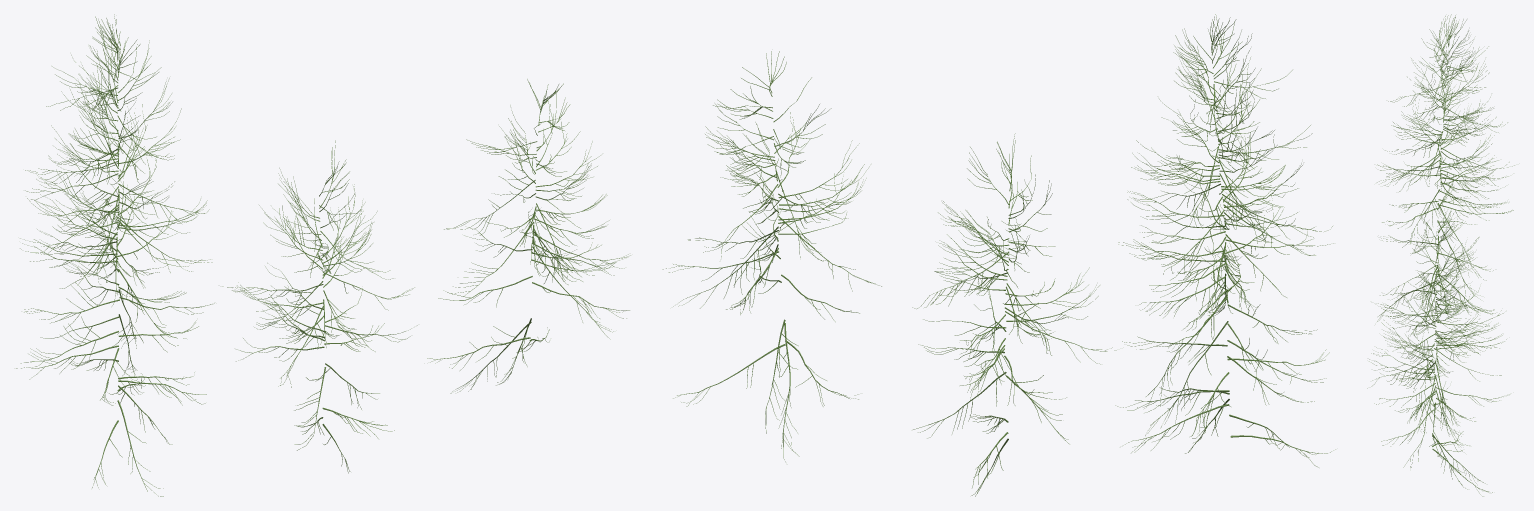
The model's file is fir_tree_01_1k.fbx.
3 renders of one model, left to right at view 1: azimuth 30°, elevation 25°; view 2: azimuth 150°, elevation 25°; view 3: azimuth 270°, elevation 25°, orthographic. The views are drawn at different scales.
Visible parts, largest first — view 1: fir_tree_01_a, fir_tree_01_b, fir_tree_01_c; view 2: fir_tree_01_a, fir_tree_01_c, fir_tree_01_b; view 3: fir_tree_01_a, fir_tree_01_c, fir_tree_01_b.
Boxes of the visible parts, x1,y1,x2,y2 form: fir_tree_01_a: (16, 14, 214, 496); fir_tree_01_b: (222, 140, 417, 473); fir_tree_01_c: (427, 79, 630, 393); fir_tree_01_a: (1115, 14, 1335, 467); fir_tree_01_c: (662, 51, 881, 461); fir_tree_01_b: (912, 133, 1116, 496); fir_tree_01_a: (1377, 14, 1514, 332); fir_tree_01_c: (1367, 271, 1509, 496); fir_tree_01_b: (1378, 214, 1506, 452).
Bounding box in the file's own units: 1771 × 1423 × 554.
